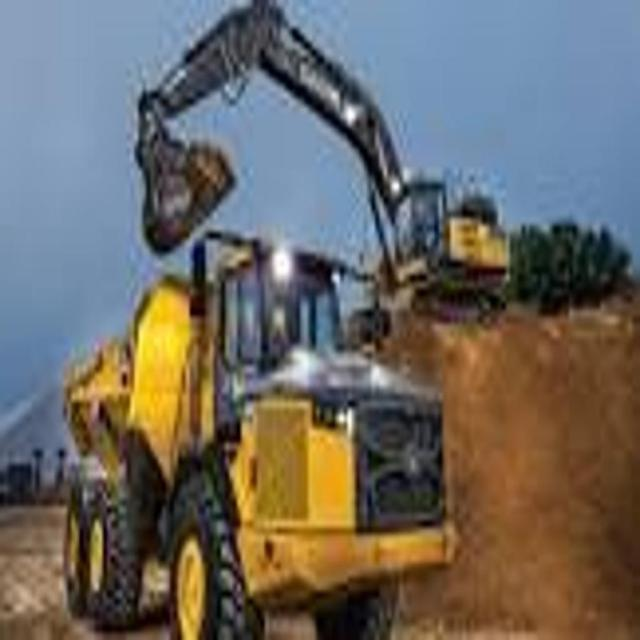dump_truck: (62, 242, 452, 640)
